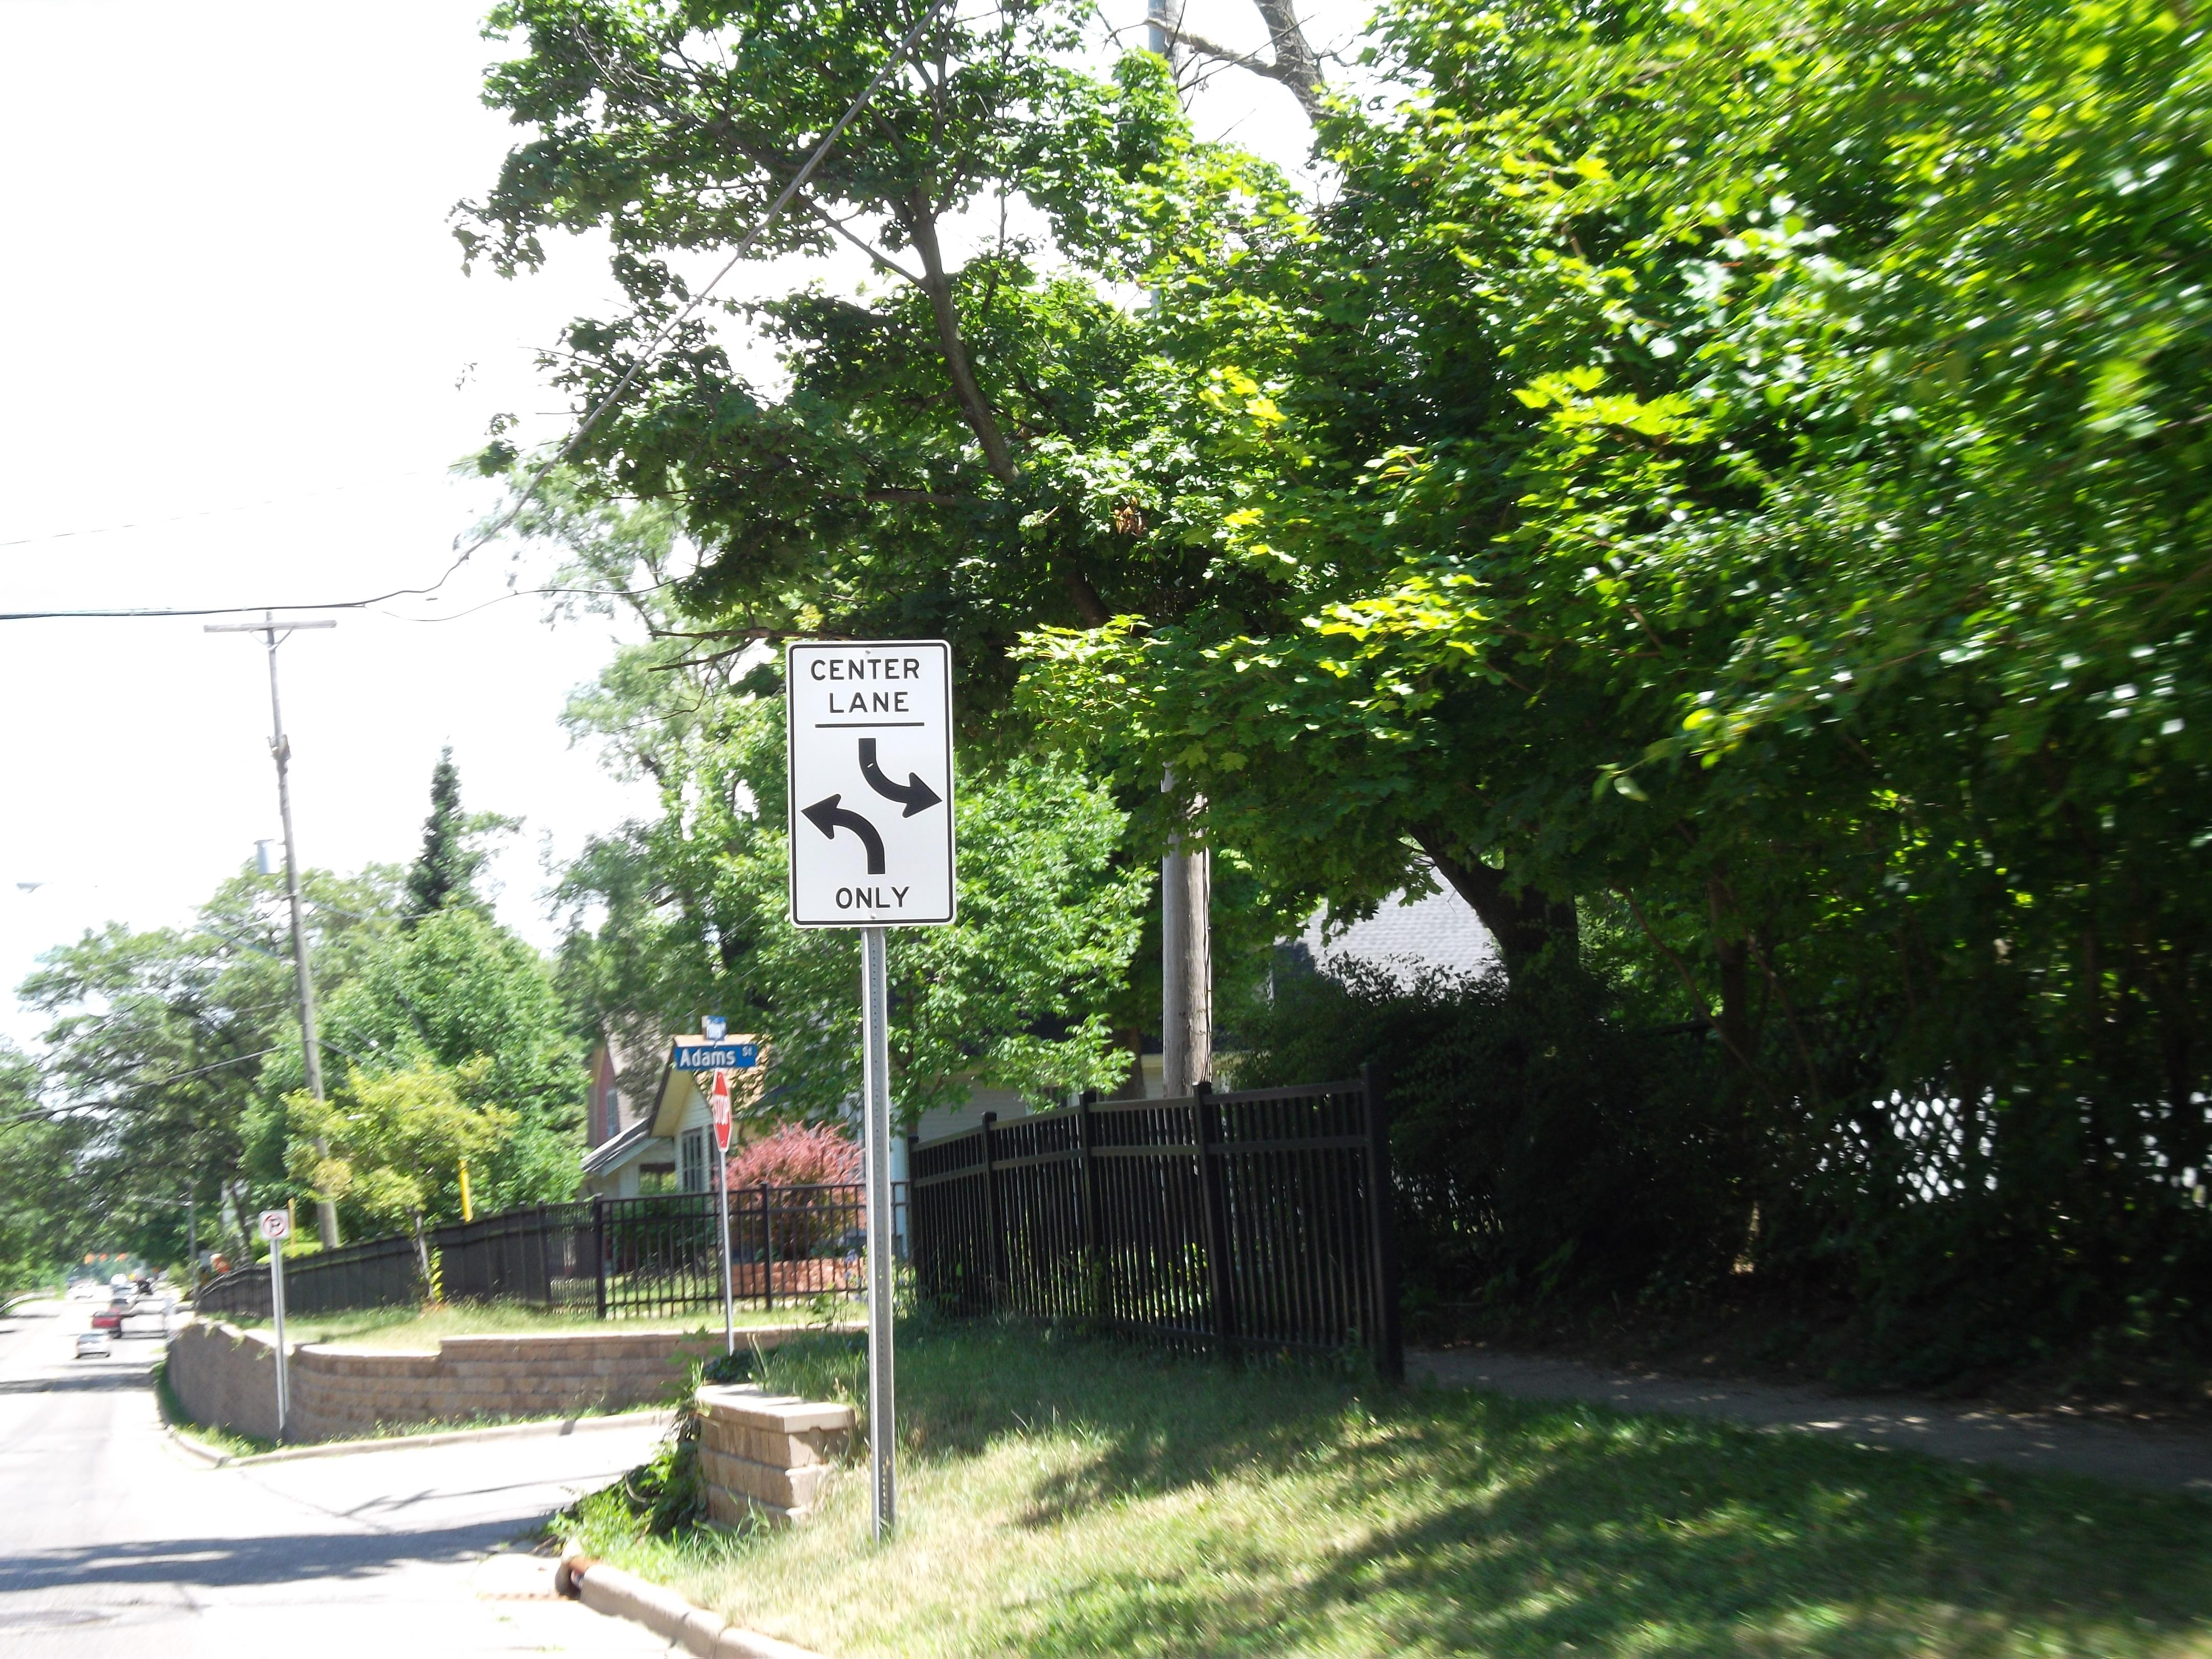regulatory: (784, 641, 958, 931), (258, 1211, 289, 1243)
stop: (704, 1070, 737, 1154)
